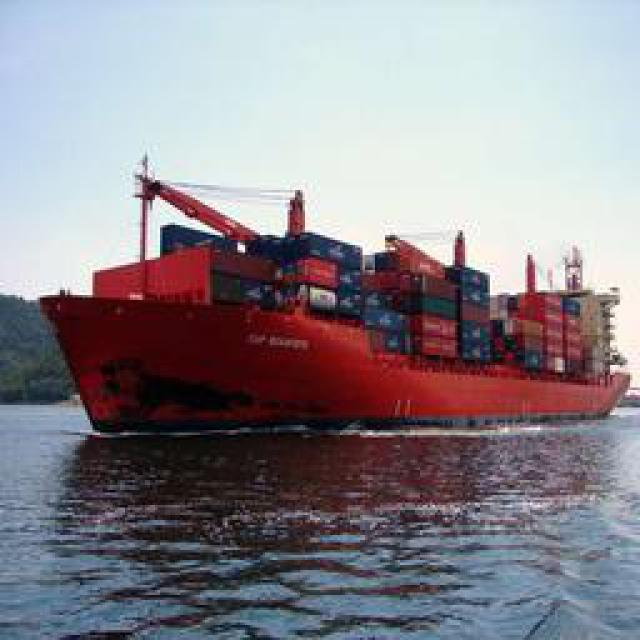Ship: (29, 141, 632, 431)
